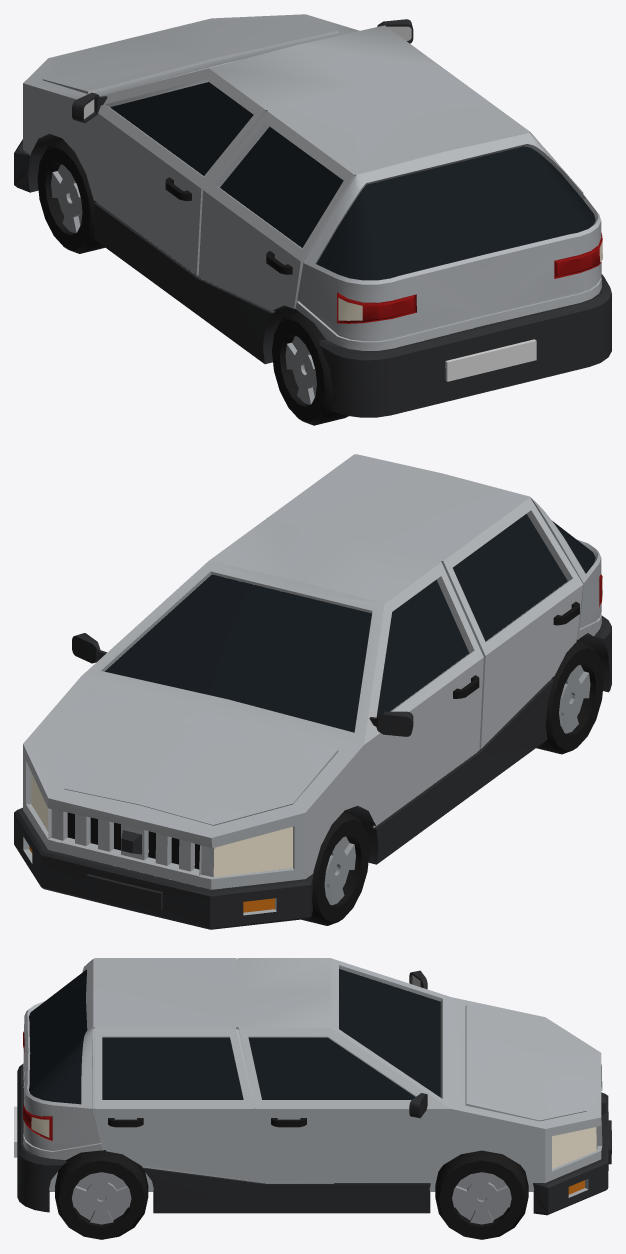
The model's file is hatchback.glb.
3 renders of one model, top to bottom at view 1: azimuth 30°, elevation 25°; view 2: azimuth 150°, elevation 25°; view 3: azimuth 270°, elevation 25°, orthographic. The views are drawn at different scales.
Parts seen in each view (by area): view 1: carroceria_pintura, carroceria_vidrio, carroceria_plastico, rueda_tras_izq_caucho, rueda_del_izq_caucho, carroceria_stop, carroceria_placa, rueda_del_izq_rin, rueda_tras_izq_rin, carroceria_negro; view 2: carroceria_pintura, carroceria_vidrio, carroceria_plastico, rueda_tras_izq_caucho, rueda_del_izq_caucho, carroceria_faro, carroceria_negro, rueda_del_izq_rin, rueda_tras_izq_rin; view 3: carroceria_pintura, carroceria_vidrio, carroceria_plastico, rueda_tras_der_caucho, rueda_del_der_caucho, rueda_del_der_rin, rueda_tras_der_rin, carroceria_faro, carroceria_negro, carroceria_stop.
Boxes of the visible parts, left/top/right/bottom form: carroceria_pintura: left=23, top=14, right=601, bottom=350; carroceria_vidrio: left=110, top=82, right=595, bottom=280; carroceria_plastico: left=14, top=19, right=611, bottom=417; rueda_tras_izq_caucho: left=272, top=311, right=348, bottom=425; rueda_del_izq_caucho: left=37, top=140, right=104, bottom=253; carroceria_stop: left=337, top=233, right=602, bottom=323; carroceria_placa: left=445, top=339, right=536, bottom=381; rueda_del_izq_rin: left=51, top=164, right=82, bottom=233; rueda_tras_izq_rin: left=285, top=336, right=316, bottom=404; carroceria_negro: left=165, top=177, right=292, bottom=274; carroceria_pintura: left=23, top=454, right=601, bottom=915; carroceria_vidrio: left=105, top=514, right=595, bottom=732; carroceria_plastico: left=14, top=616, right=611, bottom=929; rueda_tras_izq_caucho: left=536, top=640, right=603, bottom=754; rueda_del_izq_caucho: left=302, top=812, right=369, bottom=925; carroceria_faro: left=31, top=577, right=602, bottom=876; carroceria_negro: left=67, top=601, right=579, bottom=869; rueda_del_izq_rin: left=324, top=836, right=355, bottom=905; rueda_tras_izq_rin: left=559, top=664, right=590, bottom=733; carroceria_pintura: left=23, top=958, right=602, bottom=1197; carroceria_vidrio: left=29, top=969, right=440, bottom=1104; carroceria_plastico: left=17, top=970, right=611, bottom=1215; rueda_tras_der_caucho: left=55, top=1150, right=148, bottom=1239; rueda_del_der_caucho: left=435, top=1150, right=528, bottom=1239; rueda_del_der_rin: left=452, top=1172, right=511, bottom=1224; rueda_tras_der_rin: left=71, top=1172, right=131, bottom=1224; carroceria_faro: left=31, top=1117, right=596, bottom=1168; carroceria_negro: left=108, top=1118, right=306, bottom=1127; carroceria_stop: left=23, top=1031, right=52, bottom=1141.
Bounding box in the file's own units: 1.97 × 1.33 × 3.7.
